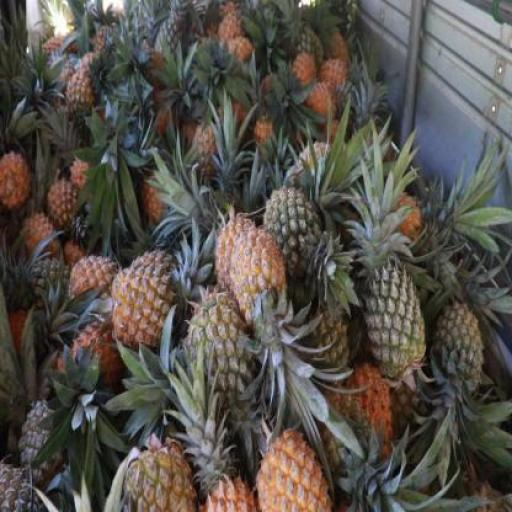------------------------------: (182, 296, 254, 406), (262, 189, 326, 287), (122, 442, 194, 511), (66, 68, 98, 126)
Pineapple - v8 v1: (110, 246, 180, 348), (252, 428, 331, 511), (228, 226, 288, 328), (213, 216, 262, 305), (68, 250, 114, 311), (47, 174, 85, 228), (0, 151, 32, 210)
